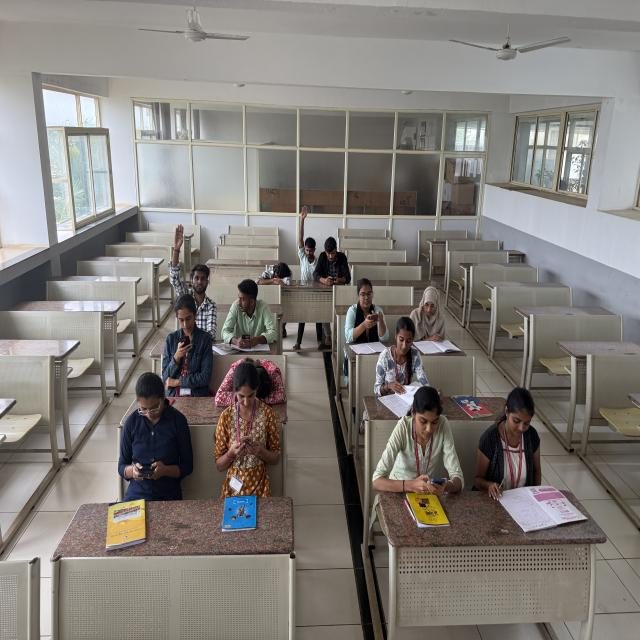Hand Rising: (152, 199, 224, 341), (287, 190, 318, 310)
Reading: (397, 238, 481, 372), (388, 325, 433, 418)
Sleeping: (211, 342, 305, 431), (254, 234, 298, 302)
Using Phone: (201, 368, 300, 490), (101, 364, 189, 491), (386, 383, 462, 496), (153, 286, 213, 393), (327, 266, 401, 352), (218, 271, 286, 358), (320, 222, 354, 296)
Writing: (473, 367, 545, 500)
